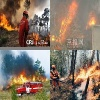fire: (50, 1, 77, 42), (71, 61, 100, 99), (2, 70, 50, 89), (29, 31, 50, 47), (0, 13, 18, 31), (87, 11, 96, 26), (60, 76, 67, 81)
